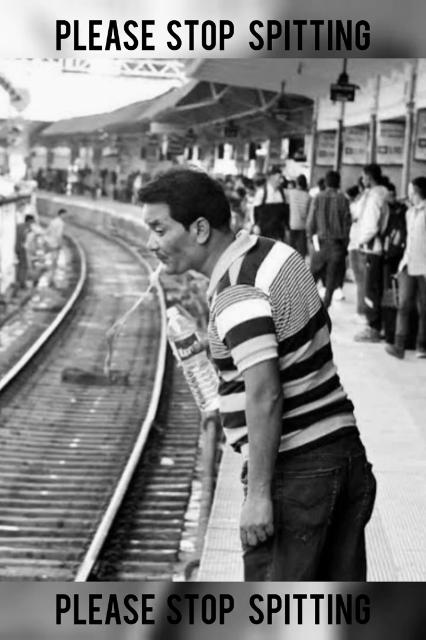spit: (79, 183, 182, 427)
